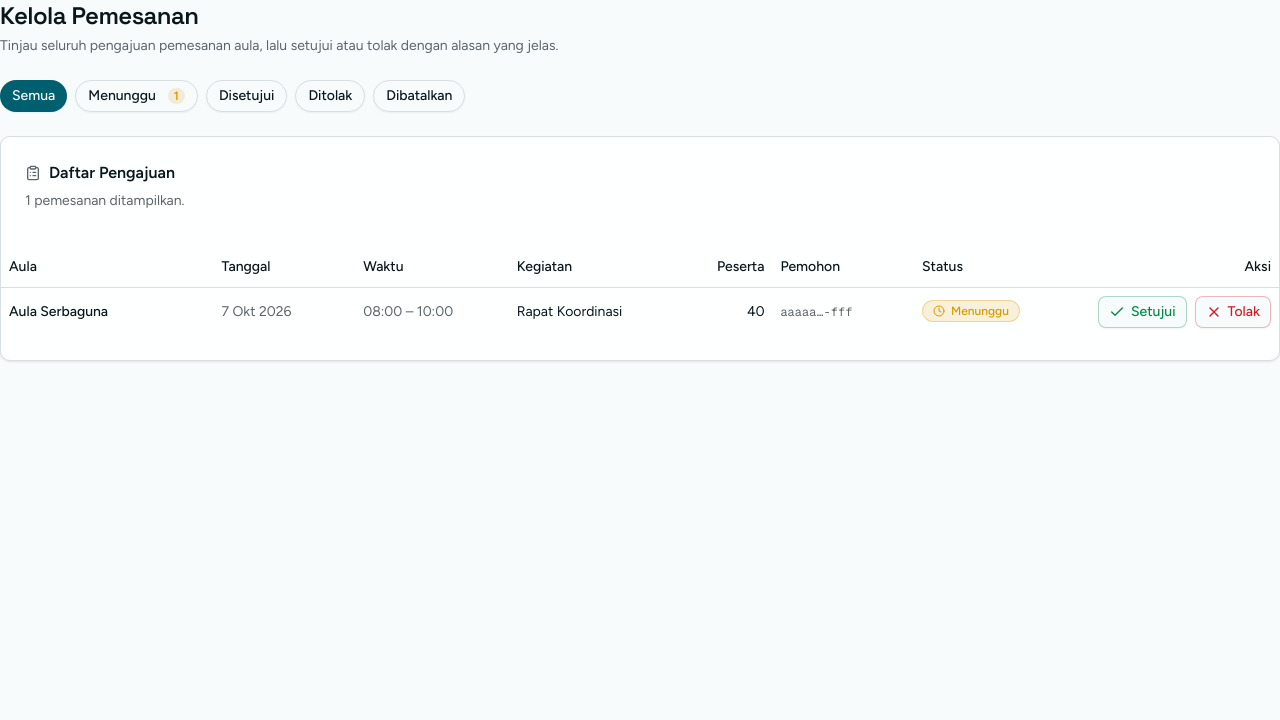
AdminBookingsPage › requires a reason before confirming a rejection
Check: the table with test id "admin_bookings.table" is shown, box x1=1 y1=247 x2=1279 y2=336
Click the button with test id "admin_bookings.reject_button.1".
click(1233, 312)  # box x1=1194 y1=296 x2=1271 y2=328
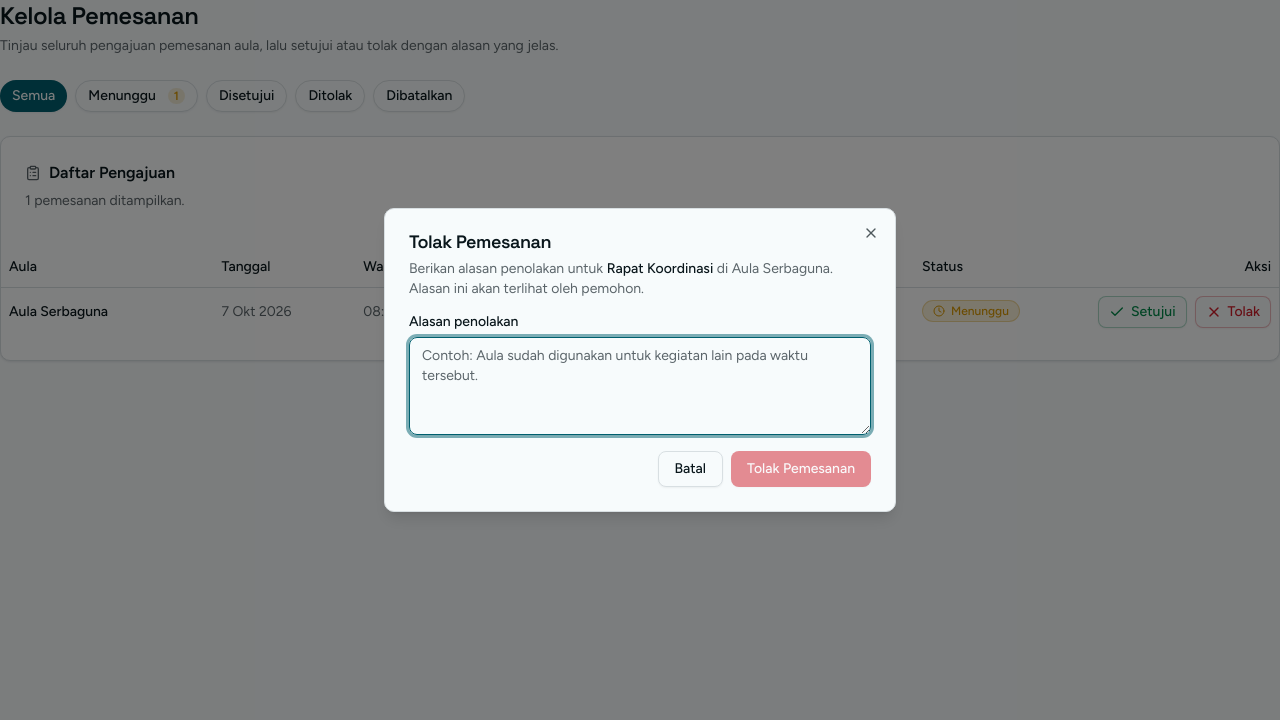
Check: the button with test id "admin_bookings.reject_confirm_button" is disabled, box x1=731 y1=451 x2=871 y2=487
